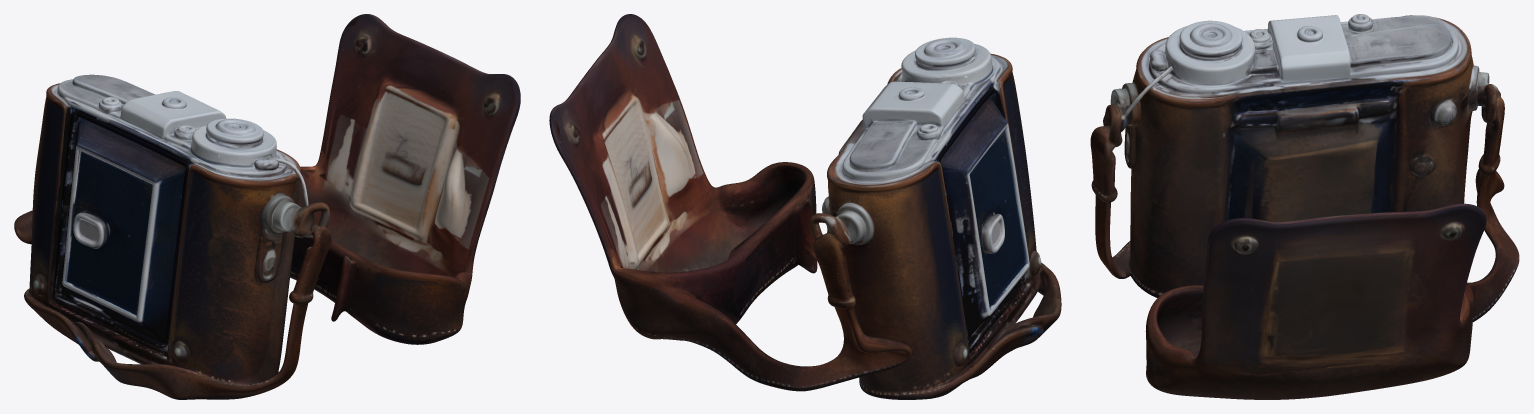
File: 平北军分区政委段苏权用过的照相机.glb
3 views of the same model, side by side, from view 1: azimuth 30°, elevation 25°; view 2: azimuth 150°, elevation 25°; view 3: azimuth 270°, elevation 25° (orthographic). The views are drawn at different scales.
Parts seen in each view (by area): view 1: texture_pbr_v128; view 2: texture_pbr_v128; view 3: texture_pbr_v128.
Part boxes in pixels (box(x1,y1,x2,y2)): texture_pbr_v128: box(14, 14, 520, 399); texture_pbr_v128: box(549, 14, 1061, 399); texture_pbr_v128: box(1090, 14, 1519, 399).
Size of the model in its own units: 1.04 by 0.5954 by 0.8709.
Materials: 1 (1 with a texture image).
